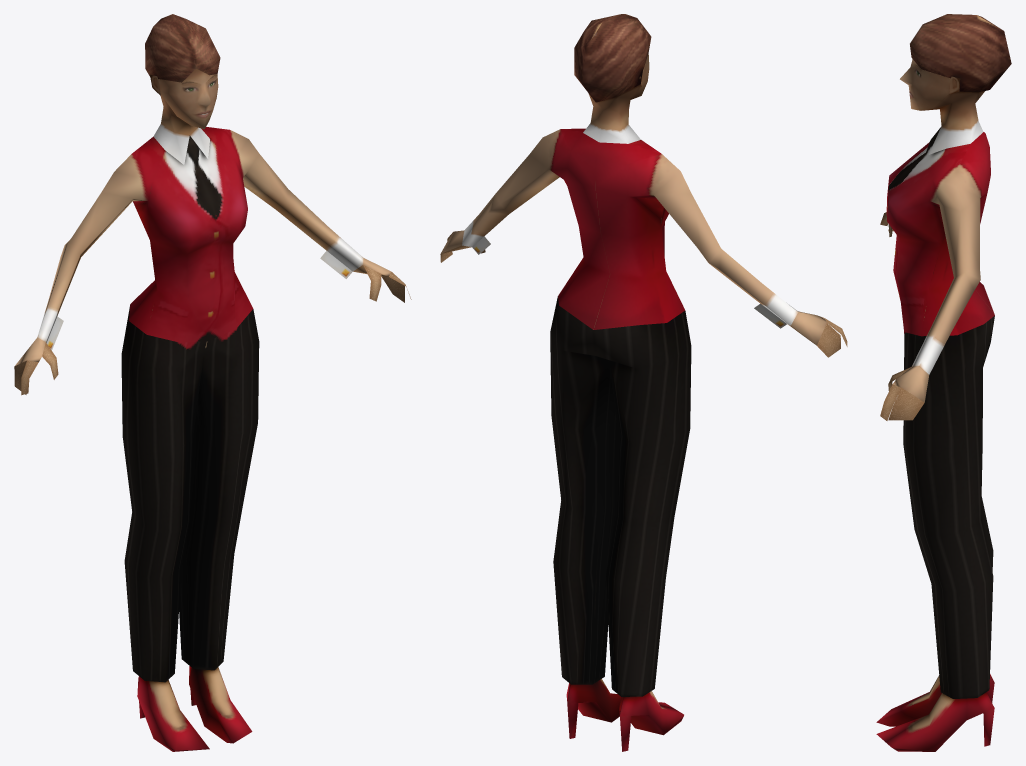
File: demo1.obj
3 renders of one model, left to right at view 1: azimuth 30°, elevation 25°; view 2: azimuth 150°, elevation 25°; view 3: azimuth 270°, elevation 25°, orthographic. The views are drawn at different scales.
Visible parts, largest first — view 1: Mesh; view 2: Mesh; view 3: Mesh.
Part boxes in pixels (bbox=[...]): Mesh: bbox=[14, 14, 411, 751]; Mesh: bbox=[440, 14, 847, 751]; Mesh: bbox=[876, 14, 1011, 751].
Size of the model in its own units: 1.07 by 1.84 by 0.3149.
